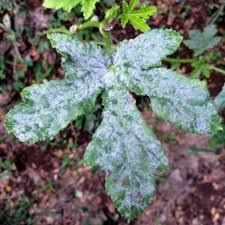powdery_mildew: (21, 28, 211, 205)
